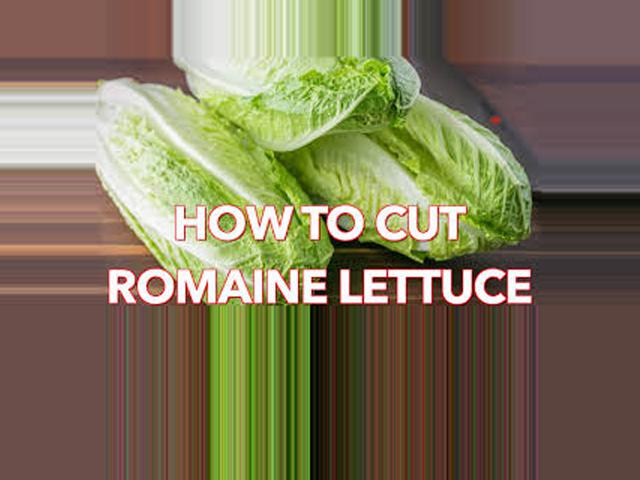lettuce: (264, 78, 542, 280)
